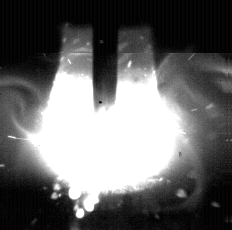arame: (95, 0, 117, 111)
poca: (41, 0, 179, 230)
